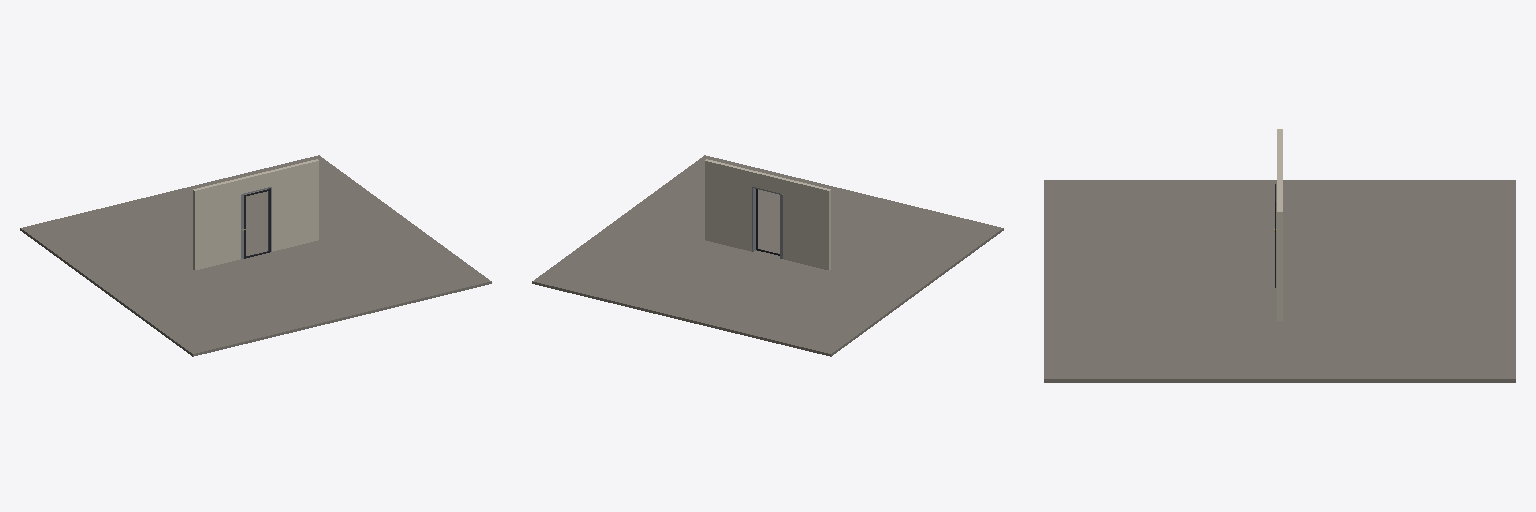
The robot description file, URDF, robot "db0602_sliding_single_minimal":
<?xml version="1.0" ?>
<robot xmlns:doorbench="https://github.com/adamraudonis/DoorBench/schema/urdf-ext" name="db0602_sliding_single_minimal">
  <link name="world_env">
    <visual name="floor_vis">
      <origin xyz="0 0 -0.05" rpy="0 0 0"/>
      <geometry>
        <box size="12 12 0.1"/>
      </geometry>
      <material name="mat_floor"/>
    </visual>
    <collision name="floor_col">
      <origin xyz="0 0 -0.05" rpy="0 0 0"/>
      <geometry>
        <box size="12 12 0.1"/>
      </geometry>
    </collision>
    <visual name="wall_left_vis">
      <origin xyz="-1.57425 0 1.529" rpy="0 0 0"/>
      <geometry>
        <box size="1.8515 0.145 3.058"/>
      </geometry>
      <material name="mat_wall"/>
    </visual>
    <collision name="wall_left_col">
      <origin xyz="-1.57425 0 1.529" rpy="0 0 0"/>
      <geometry>
        <box size="1.8515 0.145 3.058"/>
      </geometry>
    </collision>
    <visual name="wall_right_vis">
      <origin xyz="1.54425 0 1.529" rpy="0 0 0"/>
      <geometry>
        <box size="1.9115 0.145 3.058"/>
      </geometry>
      <material name="mat_wall"/>
    </visual>
    <collision name="wall_right_col">
      <origin xyz="1.54425 0 1.529" rpy="0 0 0"/>
      <geometry>
        <box size="1.9115 0.145 3.058"/>
      </geometry>
    </collision>
    <visual name="wall_header_vis">
      <origin xyz="-0.03 0 2.7805" rpy="0 0 0"/>
      <geometry>
        <box size="1.237 0.145 0.555"/>
      </geometry>
      <material name="mat_wall"/>
    </visual>
    <collision name="wall_header_col">
      <origin xyz="-0.03 0 2.7805" rpy="0 0 0"/>
      <geometry>
        <box size="1.237 0.145 0.555"/>
      </geometry>
    </collision>
    <visual name="jamb_r_vis">
      <origin xyz="0.566 0 1.229" rpy="0 0 0"/>
      <geometry>
        <box size="0.045 0.145 2.458"/>
      </geometry>
      <material name="mat_frame"/>
    </visual>
    <collision name="jamb_r_col">
      <origin xyz="0.566 0 1.229" rpy="0 0 0"/>
      <geometry>
        <box size="0.045 0.145 2.458"/>
      </geometry>
    </collision>
    <visual name="jamb_head_vis">
      <origin xyz="0 0 2.4805" rpy="0 0 0"/>
      <geometry>
        <box size="1.177 0.145 0.045"/>
      </geometry>
      <material name="mat_frame"/>
    </visual>
    <collision name="jamb_head_col">
      <origin xyz="0 0 2.4805" rpy="0 0 0"/>
      <geometry>
        <box size="1.177 0.145 0.045"/>
      </geometry>
    </collision>
    <visual name="leaf_staple_leg_n_vis">
      <origin xyz="-0.5735 -0.109 1.1625" rpy="-1.570796 0 3.141593"/>
      <geometry>
        <box size="0.006 0.005 0.073"/>
      </geometry>
      <material name="mat_op_steel_galvanized"/>
    </visual>
    <collision name="leaf_staple_leg_n_col">
      <origin xyz="-0.5735 -0.109 1.1625" rpy="-1.570796 0 3.141593"/>
      <geometry>
        <box size="0.006 0.005 0.073"/>
      </geometry>
    </collision>
    <visual name="leaf_staple_leg_p_vis">
      <origin xyz="-0.5735 -0.109 1.1375" rpy="-1.570796 0 3.141593"/>
      <geometry>
        <box size="0.006 0.005 0.073"/>
      </geometry>
      <material name="mat_op_steel_galvanized"/>
    </visual>
    <collision name="leaf_staple_leg_p_col">
      <origin xyz="-0.5735 -0.109 1.1375" rpy="-1.570796 0 3.141593"/>
      <geometry>
        <box size="0.006 0.005 0.073"/>
      </geometry>
    </collision>
    <visual name="leaf_staple_bridge_vis">
      <origin xyz="-0.5735 -0.143 1.15" rpy="-1.570796 0 3.141593"/>
      <geometry>
        <box size="0.006 0.03 0.005"/>
      </geometry>
      <material name="mat_op_steel_galvanized"/>
    </visual>
    <collision name="leaf_staple_bridge_col">
      <origin xyz="-0.5735 -0.143 1.15" rpy="-1.570796 0 3.141593"/>
      <geometry>
        <box size="0.006 0.03 0.005"/>
      </geometry>
    </collision>
    <visual name="leaf_staple_base_vis">
      <origin xyz="-0.5735 -0.0735 1.15" rpy="-1.570796 0 3.141593"/>
      <geometry>
        <box size="0.032 0.042 0.002"/>
      </geometry>
      <material name="mat_op_steel_galvanized"/>
    </visual>
    <visual name="leaf_padlock_shackle_vis">
      <origin xyz="-0.5735 -0.1345 1.15" rpy="0 -1.570796 0"/>
      <geometry>
        <cylinder radius="0.004" length="0.032"/>
      </geometry>
      <material name="mat_padlock"/>
    </visual>
    <visual name="leaf_padlock_leg_a_vis">
      <origin xyz="-0.5575 -0.1345 1.138" rpy="3.141593 0 0"/>
      <geometry>
        <cylinder radius="0.004" length="0.024"/>
      </geometry>
      <material name="mat_padlock"/>
    </visual>
    <visual name="leaf_padlock_leg_b_vis">
      <origin xyz="-0.5895 -0.1345 1.138" rpy="3.141593 0 0"/>
      <geometry>
        <cylinder radius="0.004" length="0.024"/>
      </geometry>
      <material name="mat_padlock"/>
    </visual>
    <visual name="leaf_padlock_body_vis">
      <origin xyz="-0.5735 -0.1345 1.108" rpy="-1.570796 0 3.141593"/>
      <geometry>
        <box size="0.044 0.036 0.016"/>
      </geometry>
      <material name="mat_padlock"/>
    </visual>
    <collision name="leaf_padlock_body_col">
      <origin xyz="-0.5735 -0.1345 1.108" rpy="-1.570796 0 3.141593"/>
      <geometry>
        <box size="0.044 0.036 0.016"/>
      </geometry>
    </collision>
    <visual name="jamb_latch_0_vis">
      <origin xyz="-0.596 0 1.229" rpy="0 0 0"/>
      <geometry>
        <box size="0.105 0.145 2.458"/>
      </geometry>
      <material name="mat_frame"/>
    </visual>
    <collision name="jamb_latch_0_col">
      <origin xyz="-0.596 0 1.229" rpy="0 0 0"/>
      <geometry>
        <box size="0.105 0.145 2.458"/>
      </geometry>
    </collision>
  </link>
  <link name="leaf">
    <inertial>
      <origin xyz="0 0 1.231" rpy="0 0 0"/>
      <mass value="115.431923"/>
      <inertia ixx="57.184802556" ixy="0" ixz="0" iyy="68.131478907" iyz="0" izz="10.958700511"/>
    </inertial>
    <collision name="leaf_slab_col_col">
      <origin xyz="0 0 1.231" rpy="0 0 0"/>
      <geometry>
        <box size="1.067 0.025 2.438"/>
      </geometry>
    </collision>
    <visual name="leaf_rail_b_vis">
      <origin xyz="0 0 0.042" rpy="0 0 0"/>
      <geometry>
        <box size="1.067 0.025 0.06"/>
      </geometry>
      <material name="mat_leaf"/>
    </visual>
    <visual name="leaf_rail_t_vis">
      <origin xyz="0 0 2.42" rpy="0 0 0"/>
      <geometry>
        <box size="1.067 0.025 0.06"/>
      </geometry>
      <material name="mat_leaf"/>
    </visual>
    <visual name="leaf_stile_h_vis">
      <origin xyz="-0.5035 0 1.231" rpy="0 0 0"/>
      <geometry>
        <box size="0.06 0.025 2.438"/>
      </geometry>
      <material name="mat_leaf"/>
    </visual>
    <visual name="leaf_stile_l_vis">
      <origin xyz="0.5035 0 1.231" rpy="0 0 0"/>
      <geometry>
        <box size="0.06 0.025 2.438"/>
      </geometry>
      <material name="mat_leaf"/>
    </visual>
  </link>
  <link name="leaf_hasp">
    <inertial>
      <origin xyz="-0.061 -0.0015 0" rpy="0 0 0"/>
      <mass value="0.099918"/>
      <inertia ixx="0.000010275" ixy="0" ixz="0" iyy="0.000134132" iyz="0" izz="0.000124007"/>
    </inertial>
    <visual name="leaf_hasp_strap_vis">
      <origin xyz="-0.061 -0.0015 0" rpy="-1.570796 0 3.141593"/>
      <geometry>
        <box size="0.122 0.035 0.003"/>
      </geometry>
      <material name="mat_op_steel_galvanized"/>
    </visual>
    <collision name="leaf_hasp_strap_col">
      <origin xyz="-0.061 -0.0015 0" rpy="-1.570796 0 3.141593"/>
      <geometry>
        <box size="0.122 0.035 0.003"/>
      </geometry>
    </collision>
  </link>
  <joint name="leaf_slide" type="prismatic">
    <origin xyz="0 -0.105 0" rpy="0 0 0"/>
    <parent link="world_env"/>
    <child link="leaf"/>
    <axis xyz="1 0 0"/>
    <limit lower="0" upper="0.002" effort="5000" velocity="10"/>
    <dynamics damping="7.777666" friction="33.995728"/>
    <doorbench:note text="Padlock on hasp: leaf locked"/>
  </joint>
  <joint name="leaf_hasp_hinge" type="revolute">
    <origin xyz="-0.4735 -0.0185 1.15" rpy="0 0 0"/>
    <parent link="leaf"/>
    <child link="leaf_hasp"/>
    <axis xyz="0 0 1"/>
    <limit lower="0" upper="0.0015" effort="2000" velocity="10"/>
    <dynamics damping="0.02" friction="0.05"/>
  </joint>
  <material name="mat_floor">
    <color rgba="0.55 0.53 0.5 1"/>
  </material>
  <material name="mat_frame">
    <color rgba="0.55 0.56 0.58 1"/>
  </material>
  <material name="mat_leaf">
    <color rgba="0.2 0.21 0.23 1"/>
  </material>
  <material name="mat_op_steel_galvanized">
    <color rgba="0.65 0.66 0.68 1"/>
  </material>
  <material name="mat_padlock">
    <color rgba="0.85 0.66 0.3 1"/>
  </material>
  <material name="mat_wall">
    <color rgba="0.78 0.76 0.7 1"/>
  </material>
</robot>

--- Facts derived from the render (not from the file) ---
3 views of the same robot in one strip: view 1: azimuth 30°, elevation 25°; view 2: azimuth 150°, elevation 25°; view 3: azimuth 270°, elevation 25° (orthographic).
Model db0602_sliding_single_minimal with 3 links and 2 joints (1 revolute, 1 prismatic), rooted at world_env, posed all joints at 0.
Links seen in each view (by area): view 1: world_env; view 2: world_env; view 3: world_env.
Link boxes in pixels (<box>): world_env: <box>20,155,491,356</box>; world_env: <box>532,155,1003,356</box>; world_env: <box>1044,129,1515,382</box>.
Size in the robot's own frame: 12 by 12 by 3.16 metres.
Geometry: primitives only (box / cylinder / sphere), no mesh files.
